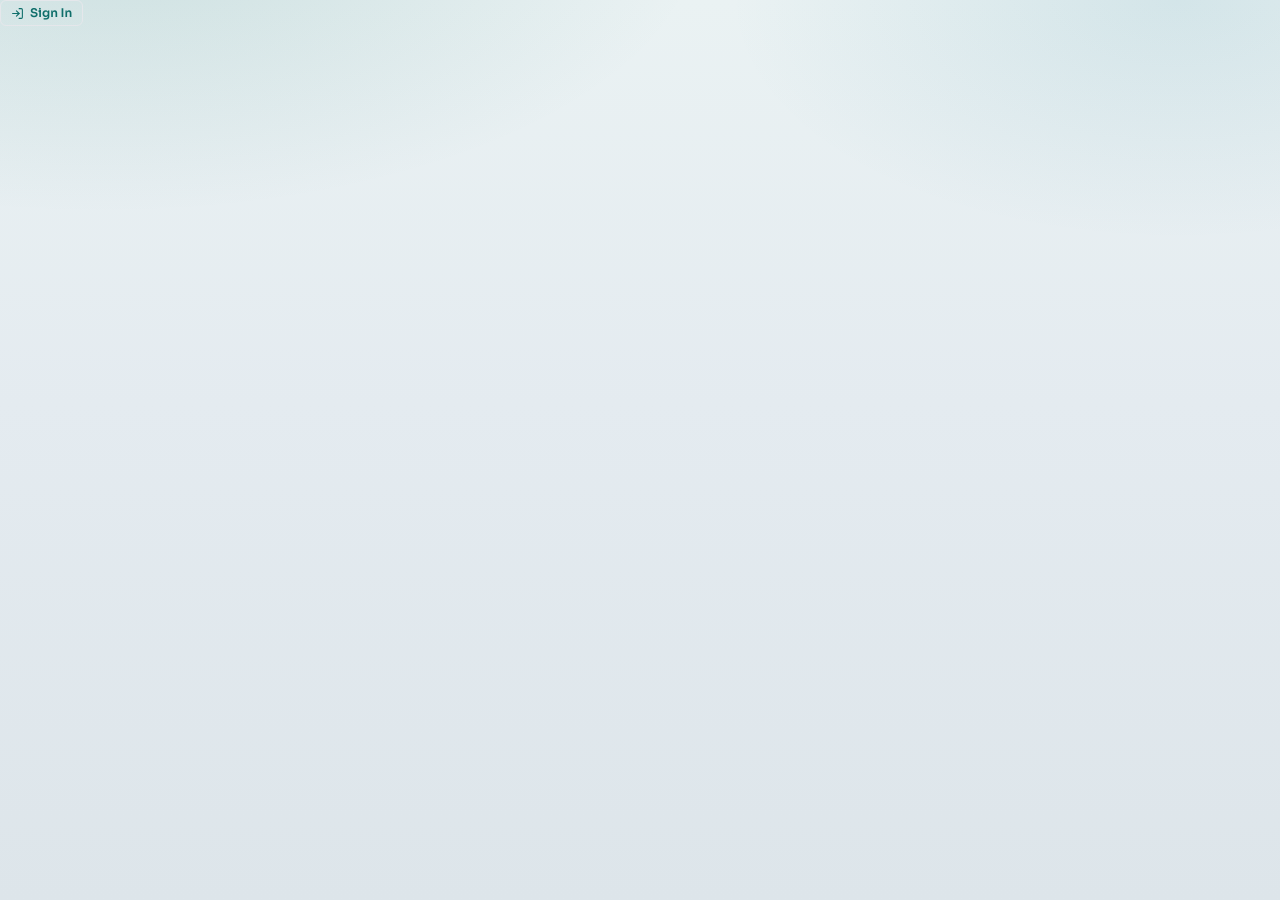
UserMenu role switching › shows Sign In when logged out and opens login modal
Click the button with test id "login-btn". click: [42, 13]
box: left=0, top=0, right=83, bottom=26
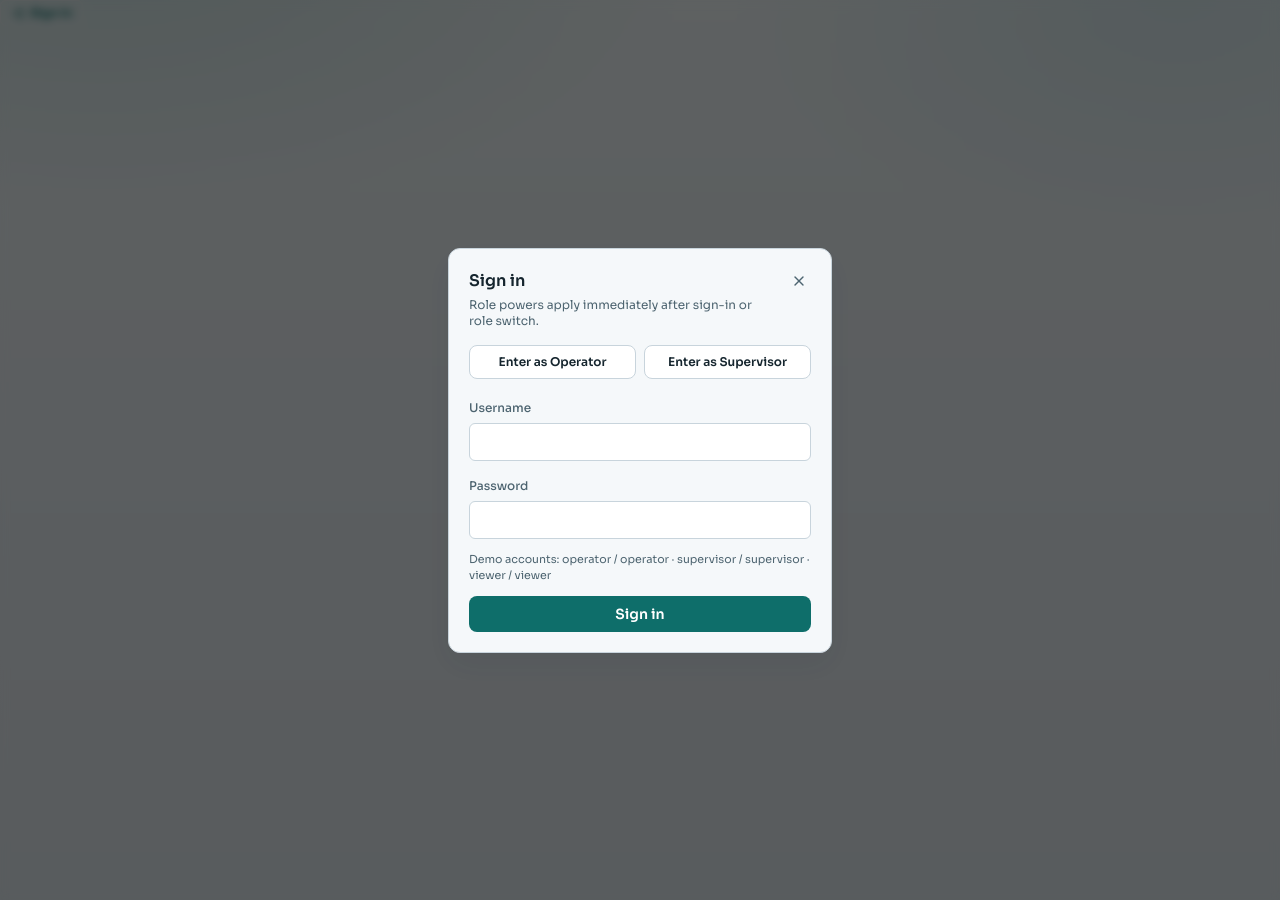
Expected: the dialog with test id "login-modal" is shown
Expected: the button with test id "quick-operator" is shown, left=469, top=344, right=636, bottom=378
Expected: the button with test id "quick-supervisor" is shown, left=644, top=344, right=811, bottom=378
